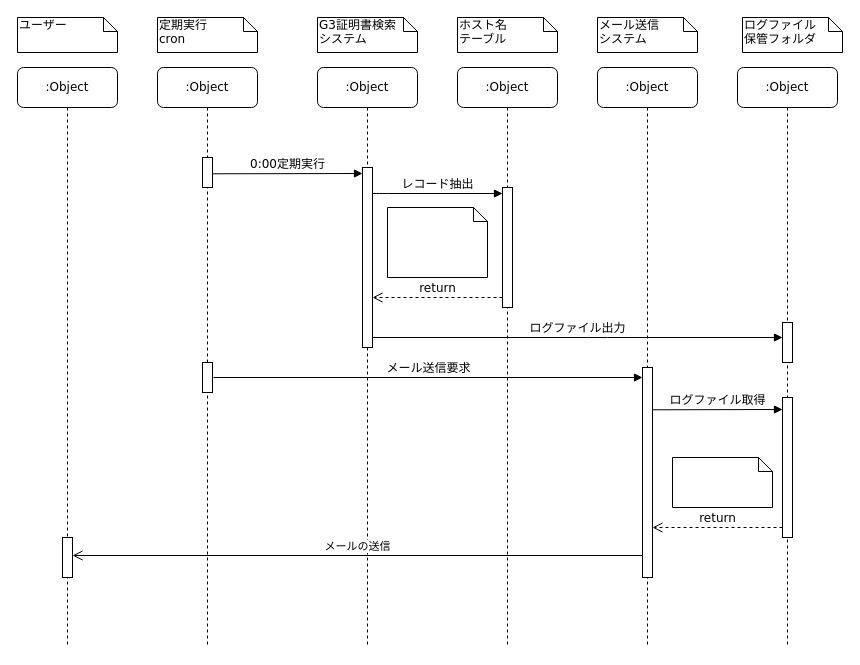
Image size: 860x665. Some labels were removed from this diagram. The shapes that lost their labels are listed below. From the top down, each one's centre as x and y in pixels, then its label:
point 437,242: 検索対象外フラグが立っていない レコード
point 722,482: ログファイル
